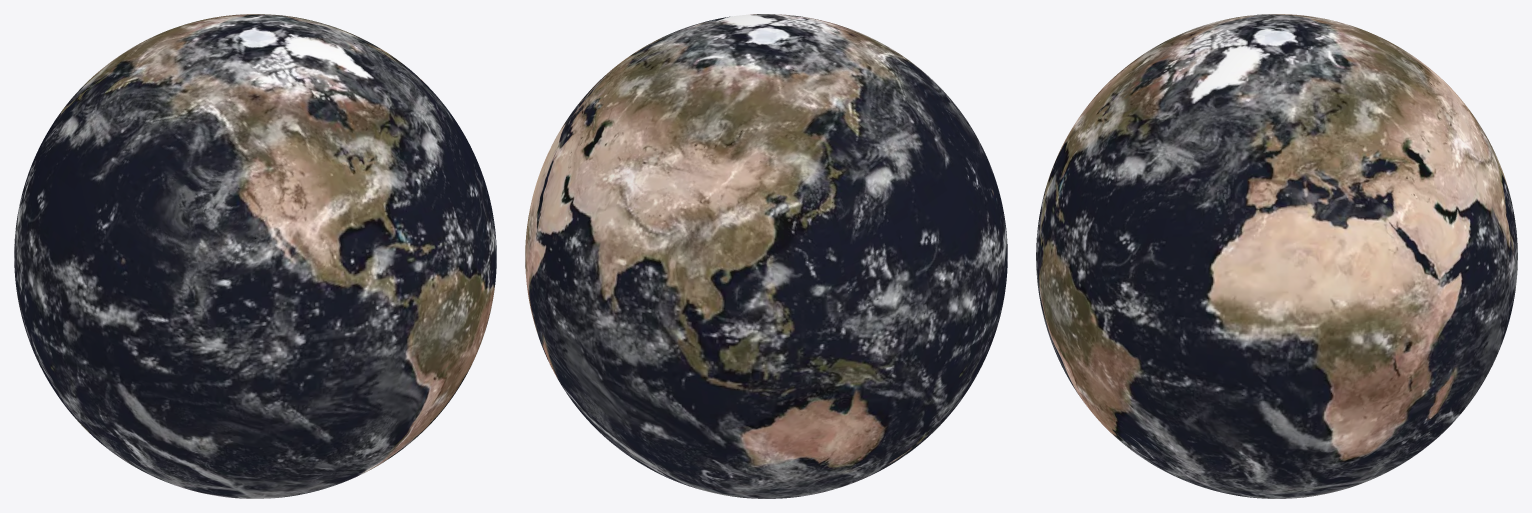
The picture shows the model from 3 angles, left to right: view 1: azimuth 30°, elevation 25°; view 2: azimuth 150°, elevation 25°; view 3: azimuth 270°, elevation 25°; orthographic projection.
Parts seen in each view (by area): view 1: Earth; view 2: Earth; view 3: Earth.
Boxes of the visible parts, <box> form: Earth: <box>14,14,496,498</box>; Earth: <box>525,14,1007,498</box>; Earth: <box>1036,14,1517,498</box>.
Size of the model in its own units: 0.3854 by 0.3883 by 0.3854.
1 material, 1 textured.
